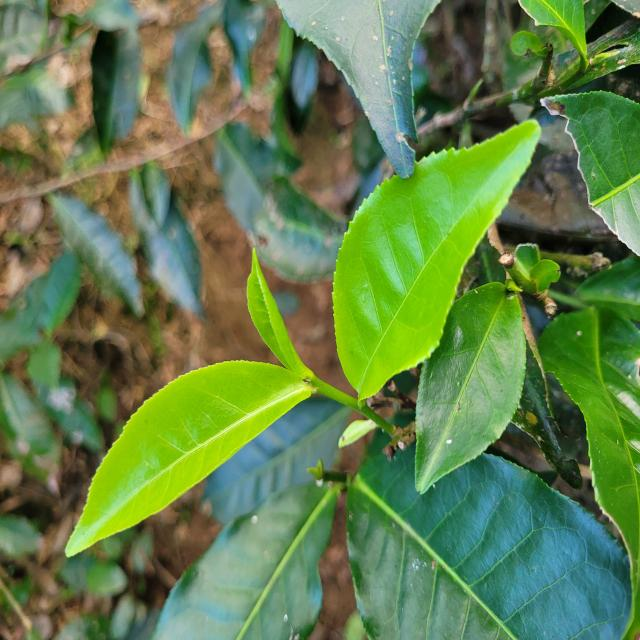Catagory A(1-2 days): (200, 210, 332, 388)
